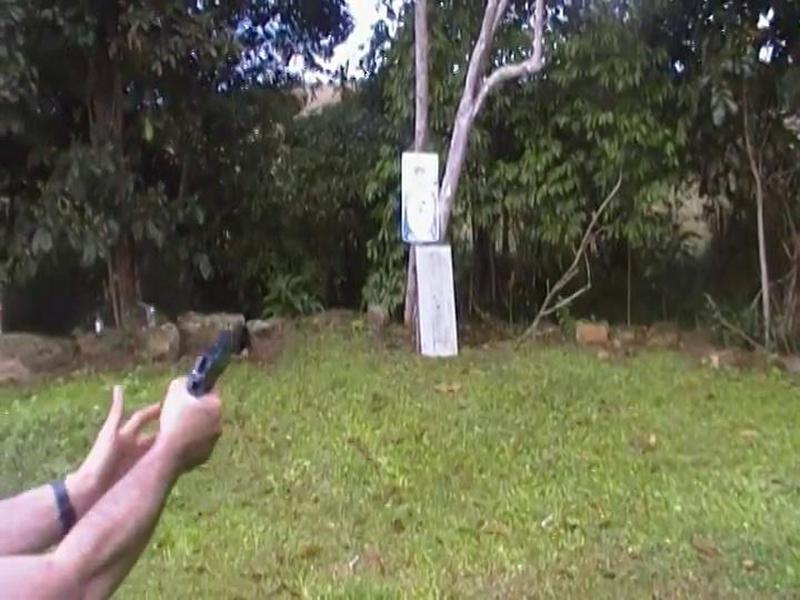Pistola: (160, 300, 276, 418)
